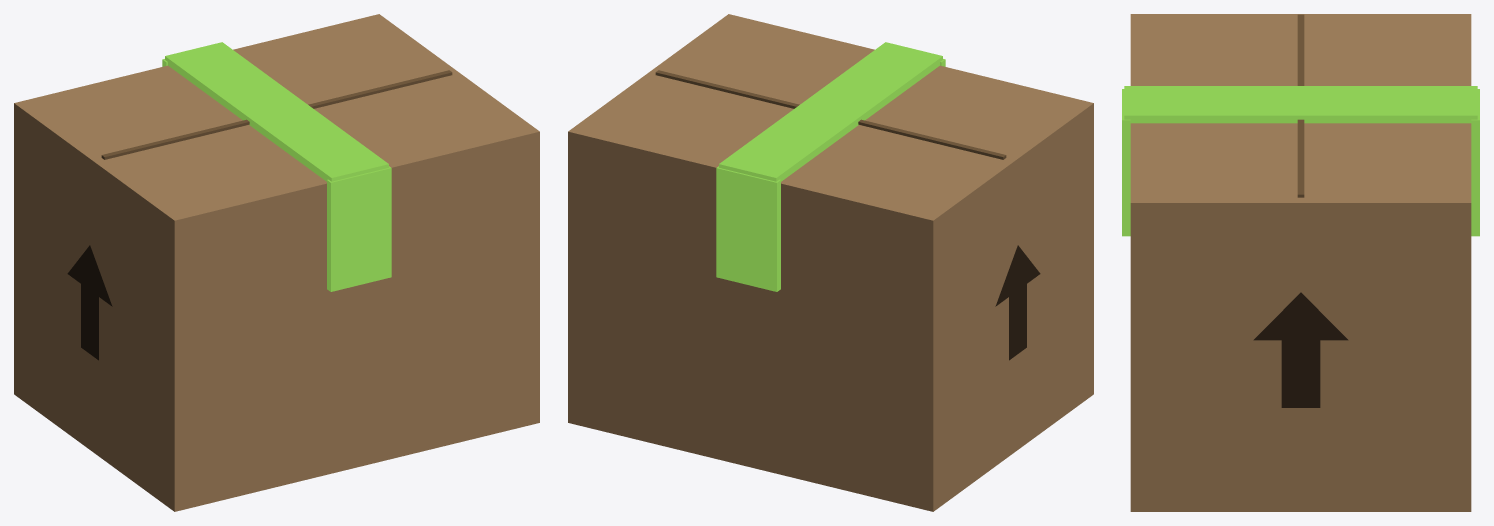
File: caixa_teste.glb
3 views of the same model, side by side, from view 1: azimuth 30°, elevation 25°; view 2: azimuth 150°, elevation 25°; view 3: azimuth 270°, elevation 25° (orthographic). The views are drawn at different scales.
Parts seen in each view (by area): view 1: caixa_malha, fita_lima; view 2: caixa_malha, fita_lima; view 3: caixa_malha, fita_lima.
Part boxes in pixels (x1=…): caixa_malha: x1=14, y1=14, x2=539, y2=511; fita_lima: x1=162, y1=42, x2=391, y2=291; caixa_malha: x1=568, y1=14, x2=1093, y2=511; fita_lima: x1=716, y1=42, x2=945, y2=291; caixa_malha: x1=1130, y1=14, x2=1471, y2=511; fita_lima: x1=1122, y1=86, x2=1479, y2=236.
Size of the model in its own units: 0.43 by 0.328 by 0.336.
